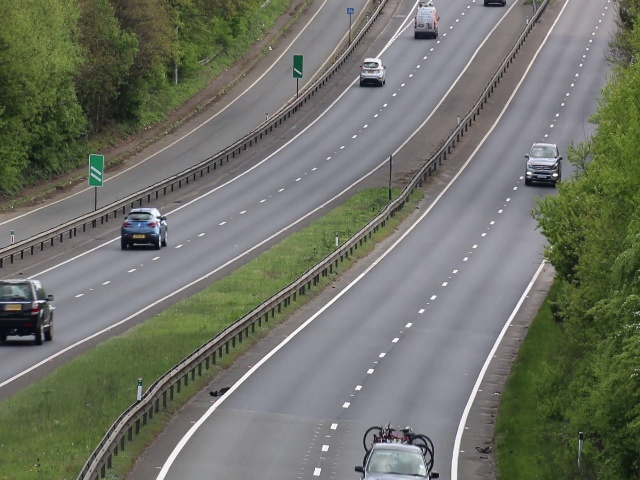car: (356, 420, 439, 480), (1, 276, 56, 348), (119, 206, 168, 252), (525, 140, 562, 187), (413, 3, 439, 39), (359, 56, 387, 88)
